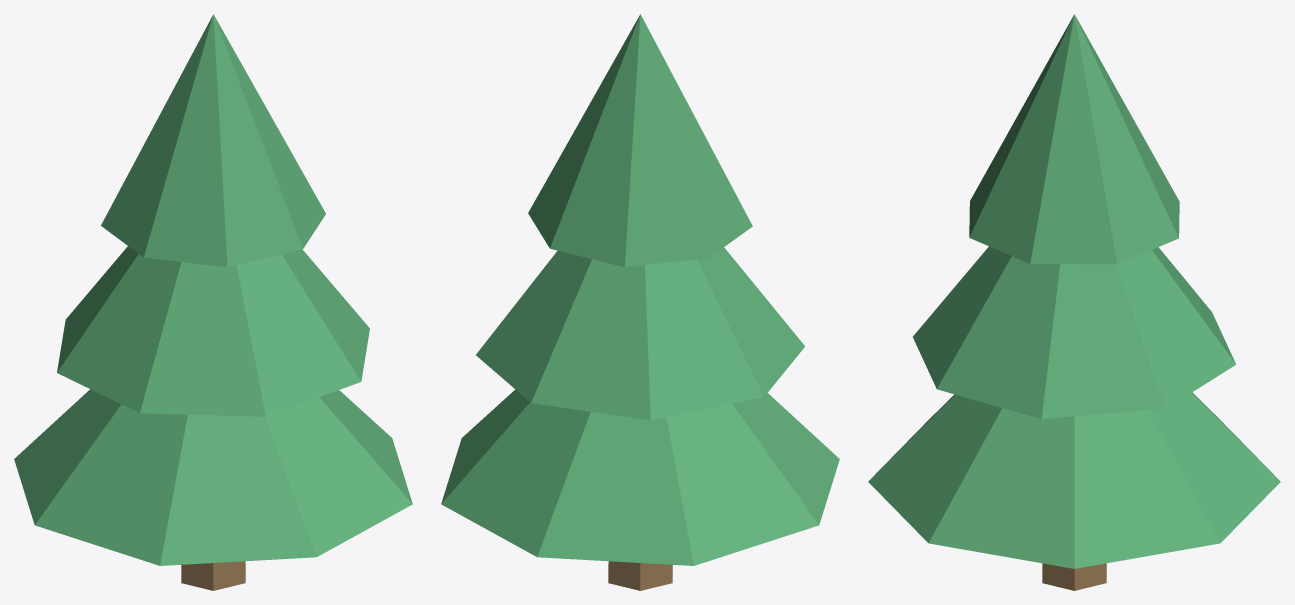
Rendered from Ёлка.glb.
3 renders of one model, left to right at view 1: azimuth 30°, elevation 25°; view 2: azimuth 150°, elevation 25°; view 3: azimuth 270°, elevation 25°, orthographic.
Visible parts, largest first — view 1: Ёлка; view 2: Ёлка; view 3: Ёлка.
Part boxes in pixels (x1=…): Ёлка: x1=14, y1=14, x2=412, y2=590; Ёлка: x1=441, y1=14, x2=839, y2=590; Ёлка: x1=868, y1=14, x2=1280, y2=590.
Bounding box in the file's own units: 2 × 3 × 2.
